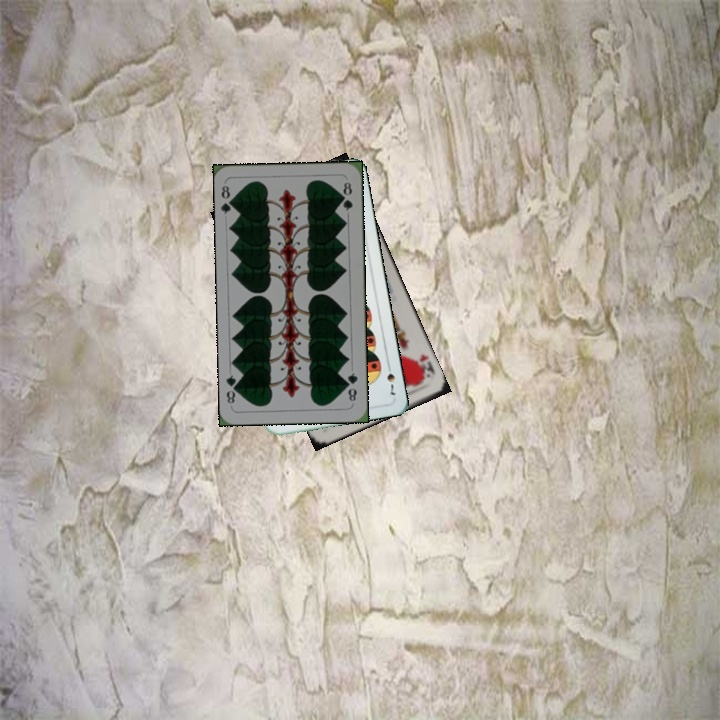G8: (217, 182, 237, 216), (343, 369, 360, 404)
HK: (411, 350, 438, 382)
S7: (383, 359, 398, 398)
